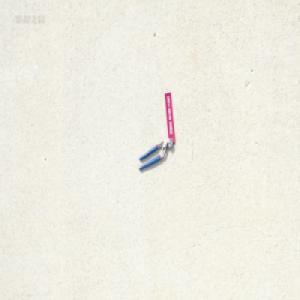Label: (164, 91, 175, 143)
Pliers: (138, 136, 173, 171)
